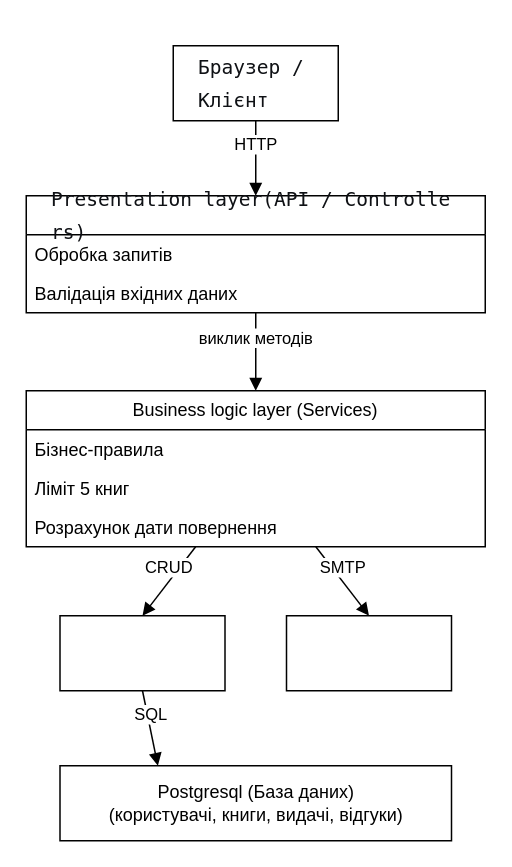
This 512x867 diagram has some shape labels left out. The centre of each missing label's shape, as x and y in pixels:
"Data access Layer (Repositories)" belongs at (x=141, y=652).
"Email service (Gmail/SendGrid)" belongs at (x=368, y=652).
